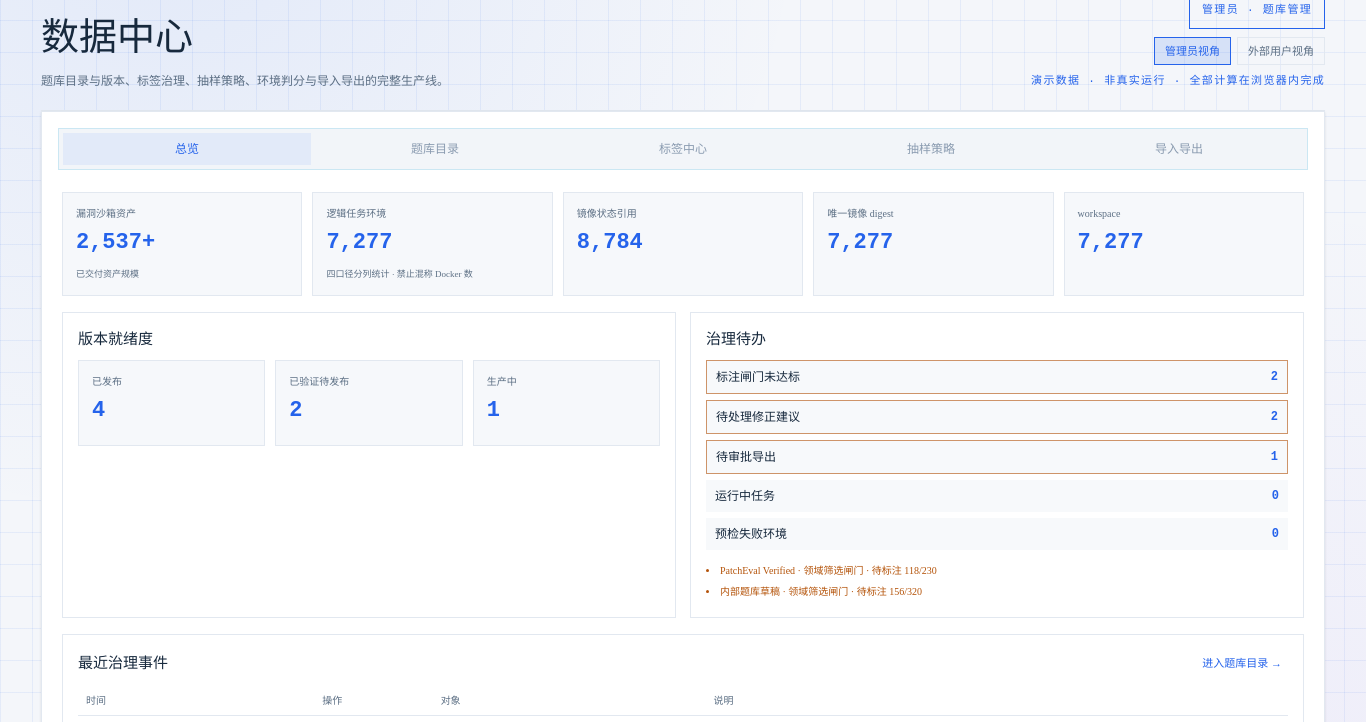
Scenario: DataCenter question bank › renders the redesigned catalog with filter rail and dataset cards (admin view)
Click the tab "题库目录". click: (435, 148)
box: [311,132,559,164]
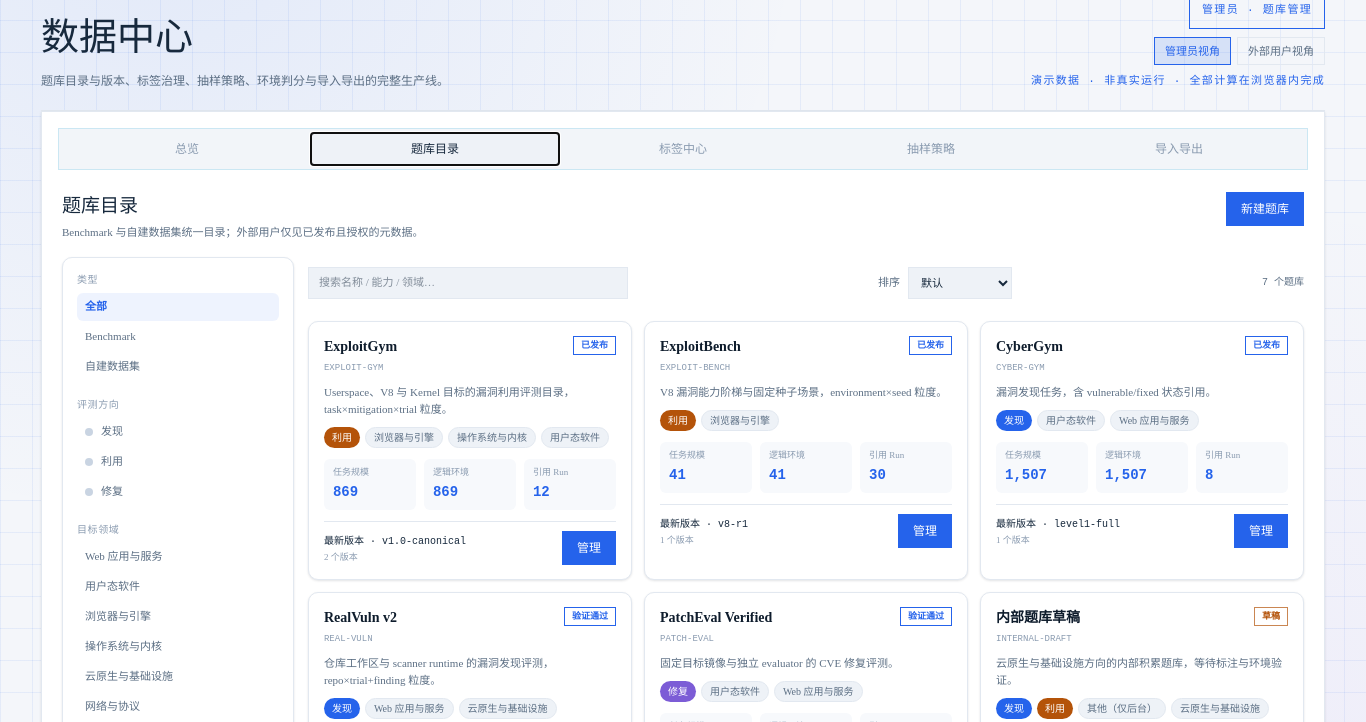
Check: the text "目标领域" is shown, box [77,524,119,534]
Check: the text "任务规模" below "EXPLOIT-GYM" is shown, box [333,467,369,477]
# Direction filter narrows the card grid, then clear-filters appears.
Click the button "修复". click: (178, 492)
box: [77,478,279,506]
(page scrolled)
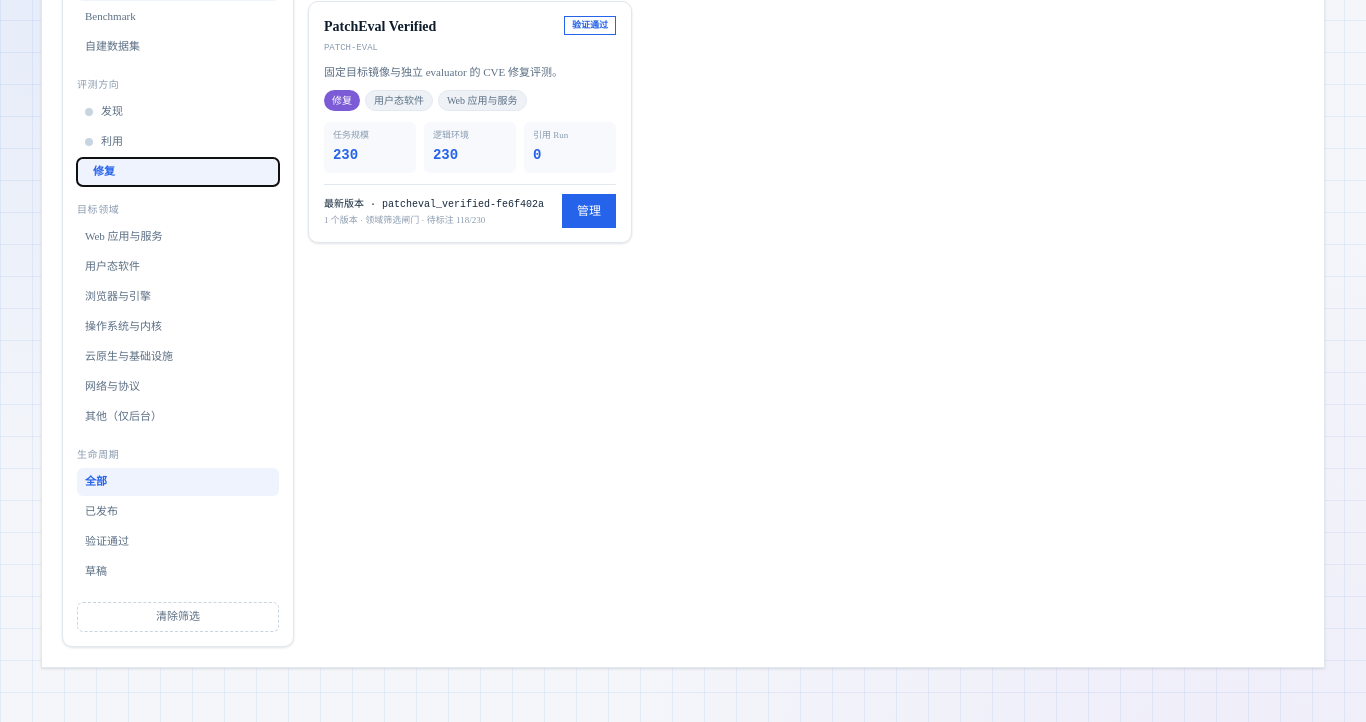
Check: the text "PatchEval Verified" is shown, box [324,16,436,36]
Check: the text "ExploitGym" is gone
Check: the button "清除筛选" is shown, box [77,602,279,632]
